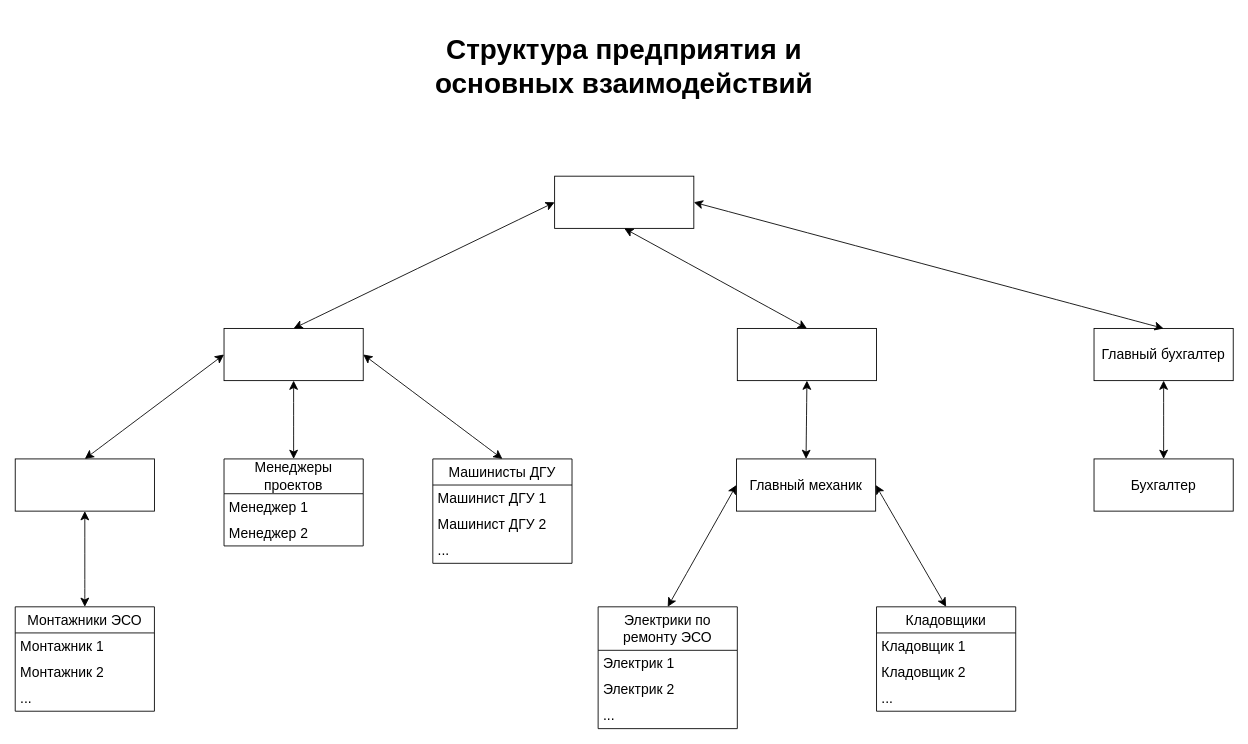
Some shapes in this 1248 by 744 pixel diagram are drawn without their labels. Here are the shapes that lost their labels. From the top down, the centre of each, then its label:
(x=624, y=201): Руководитель предприятия
(x=293, y=354): Главный менеджер
(x=806, y=354): Главный инженер
(x=84, y=484): Бригадир монтажников
